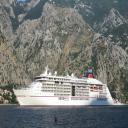cruises: (13, 64, 116, 109)
